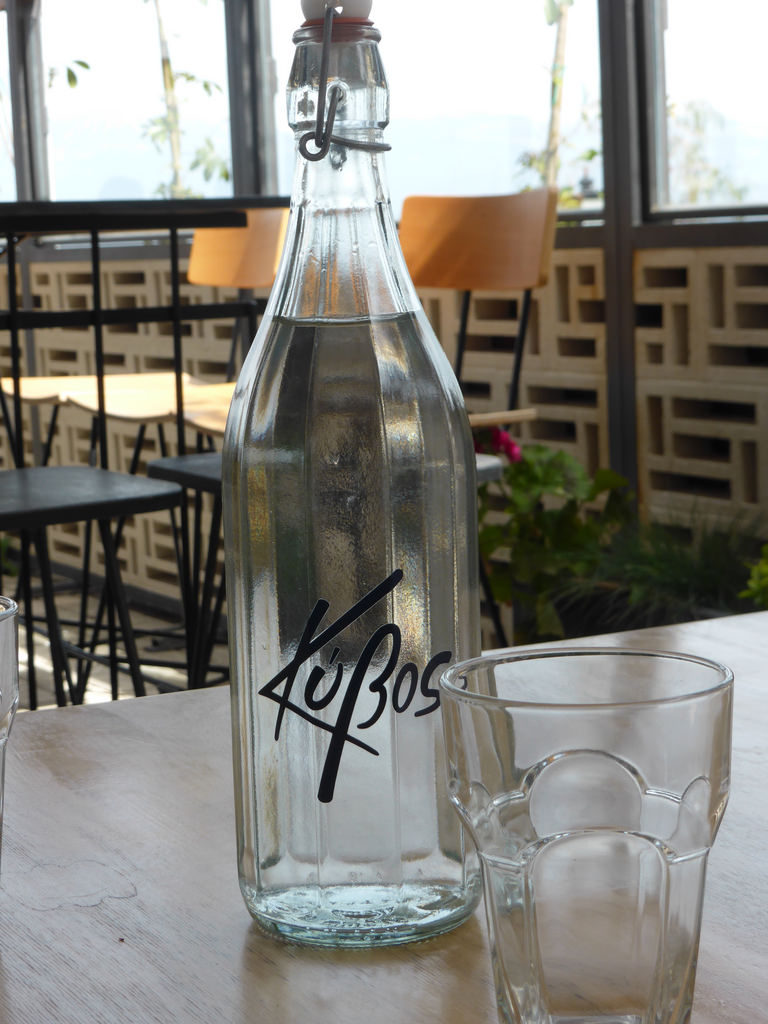glass of water: (250, 1, 487, 938)
